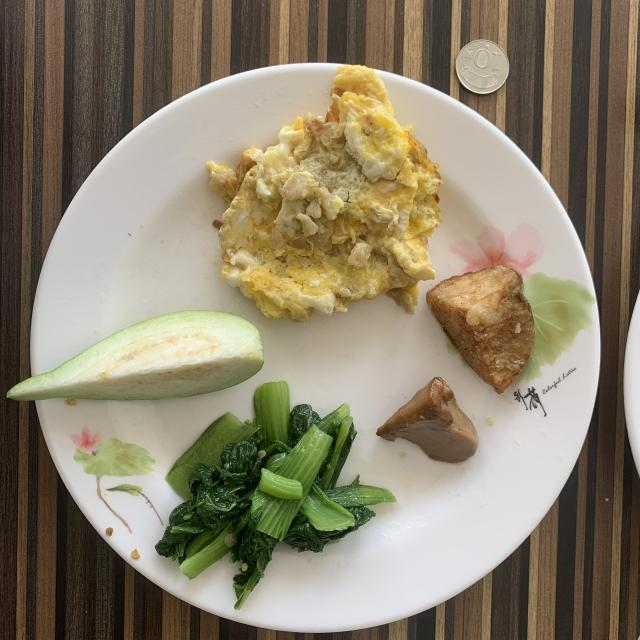coin: (455, 40, 509, 94)
fried potato: (426, 265, 535, 394)
guava -sliced-: (8, 310, 264, 400)
mustard greens: (156, 381, 395, 609)
